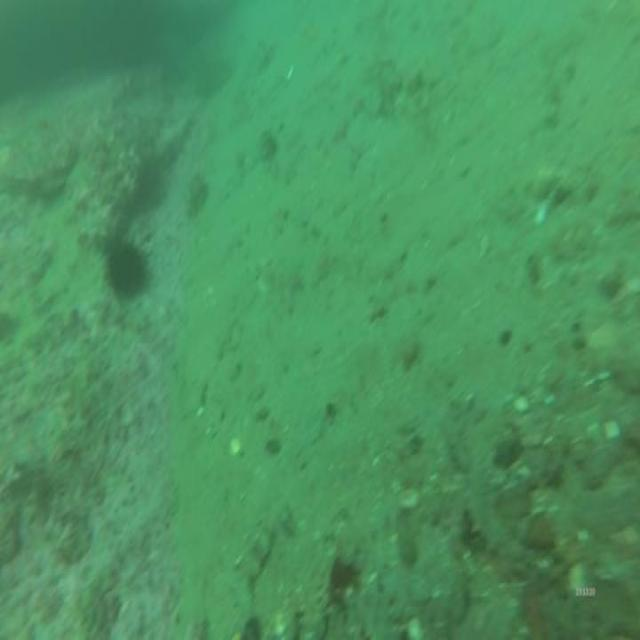echinus: (101, 223, 150, 302), (134, 150, 164, 215)
